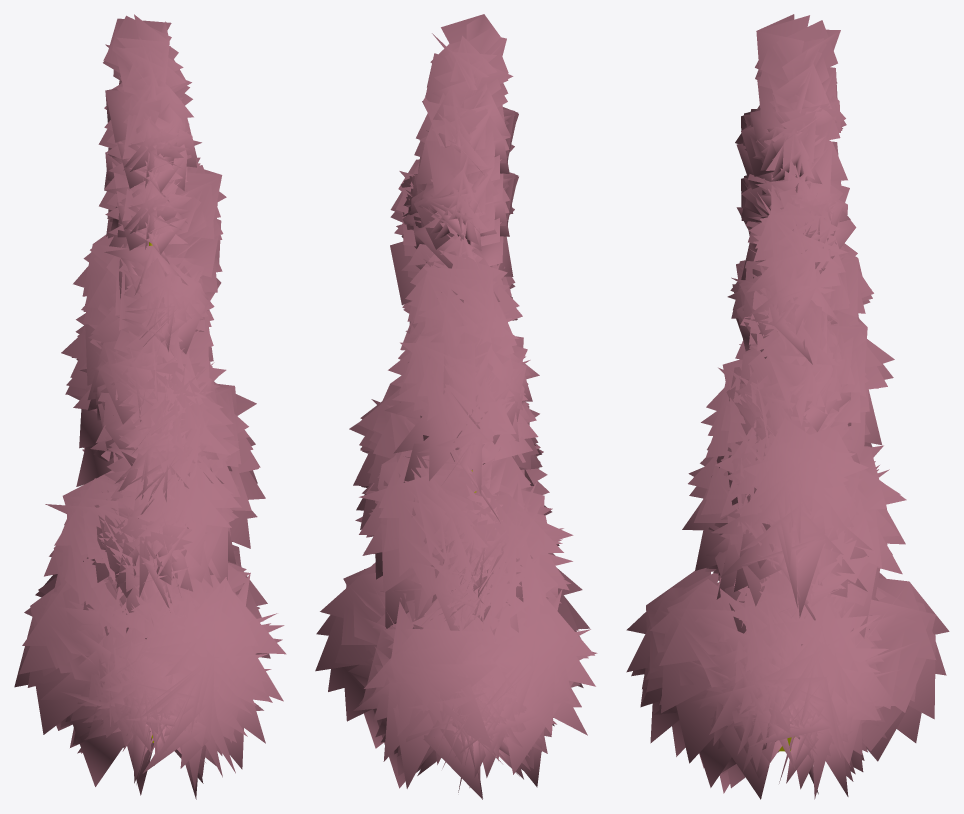
Rendered from MESH_01Cedar.fbx.
3 views of the same model, side by side, from view 1: azimuth 30°, elevation 25°; view 2: azimuth 150°, elevation 25°; view 3: azimuth 270°, elevation 25° (orthographic).
Parts seen in each view (by area): view 1: Mesh_CedarLOD0; view 2: Mesh_CedarLOD0; view 3: Mesh_CedarLOD0.
Part boxes in pixels (x1=…): Mesh_CedarLOD0: x1=14, y1=14, x2=286, y2=799; Mesh_CedarLOD0: x1=315, y1=14, x2=597, y2=799; Mesh_CedarLOD0: x1=626, y1=14, x2=949, y2=799.
Size of what is drawn, in the model's own units: 500 by 1446 by 551.
